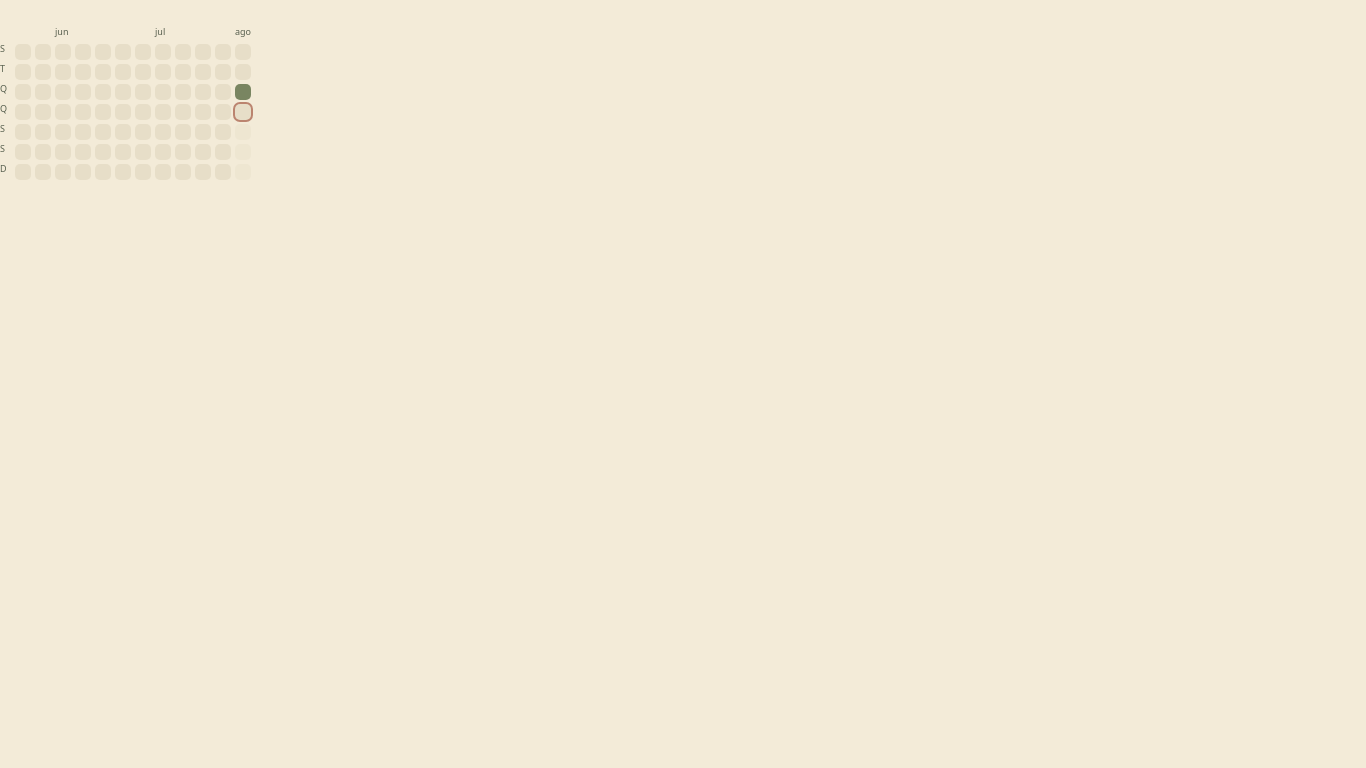
Test case: MapaCalor — ordem e formatação do popover no fuso local › lista as práticas em ordem cronológica local, mesmo com entrada fora de ordem
This screenshot has width=1366, height=768.
Click the button named "05 de ago. — 3 práticas" at (243, 92), box [235,84,251,100]
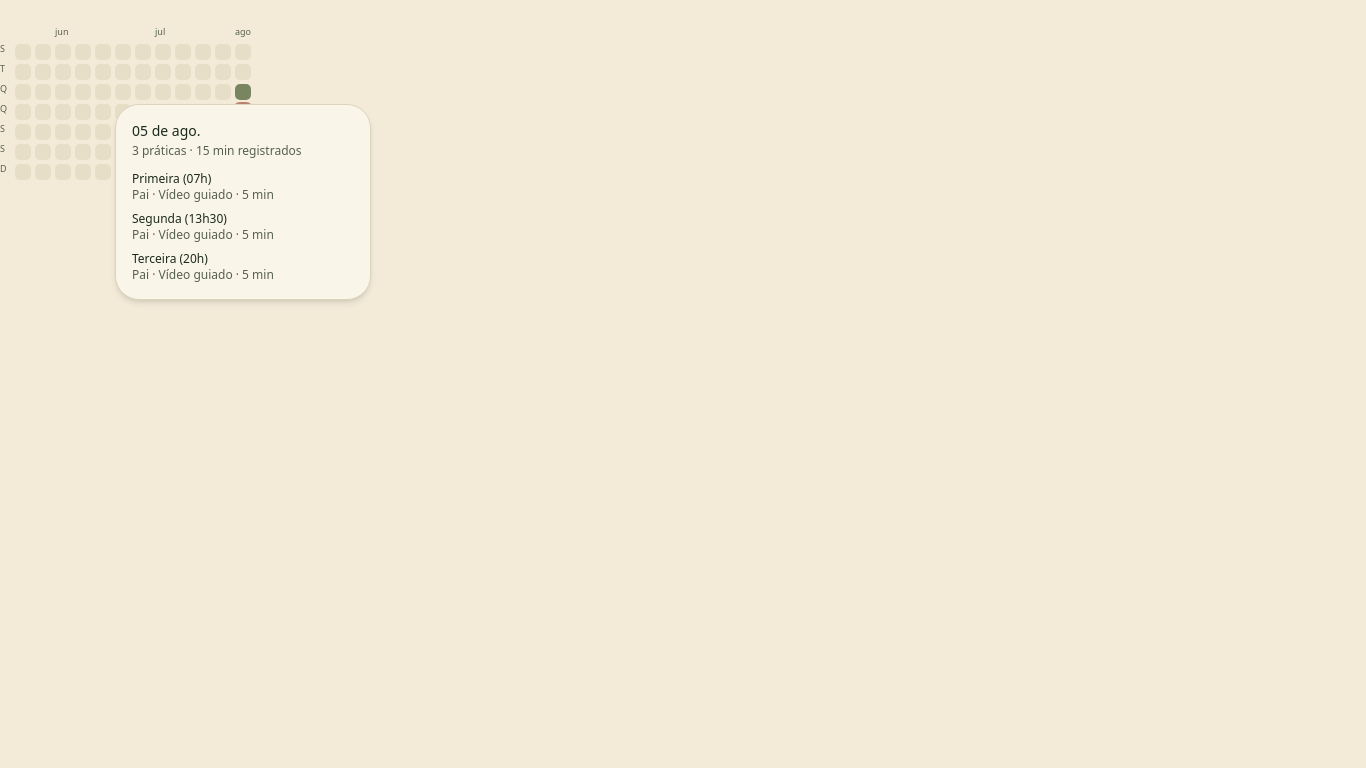
Now the number of list items is 3, box [132,170,274,203]; [132,210,274,243]; [132,250,274,283]
Now the list item "Primeira (07h) Pai · Vídeo guiado · 5 min" is shown, box [132,170,274,203]
Now the list item "Segunda (13h30) Pai · Vídeo guiado · 5 min" is shown, box [132,210,274,243]
